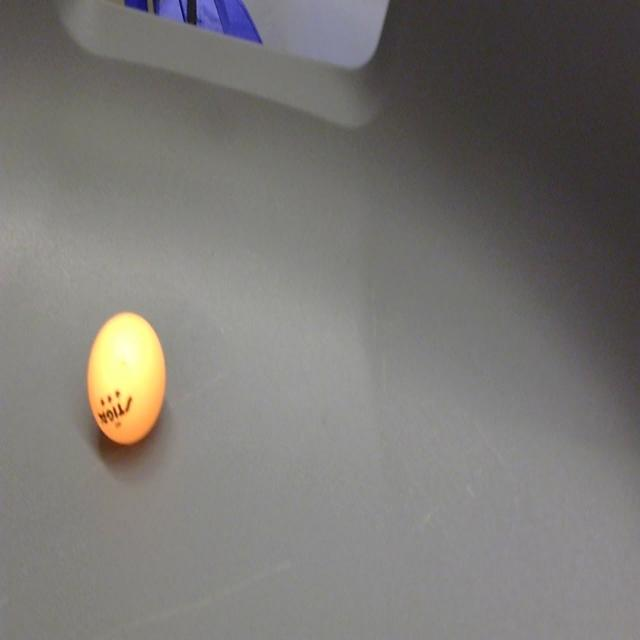ball: (84, 302, 169, 448)
